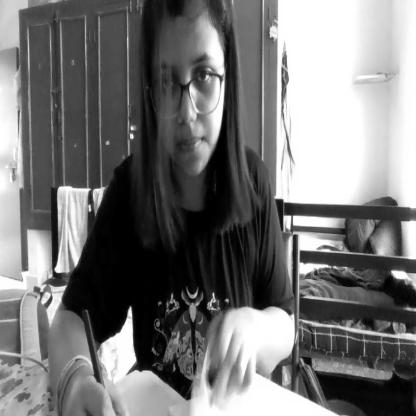Normal: (147, 0, 229, 183)
